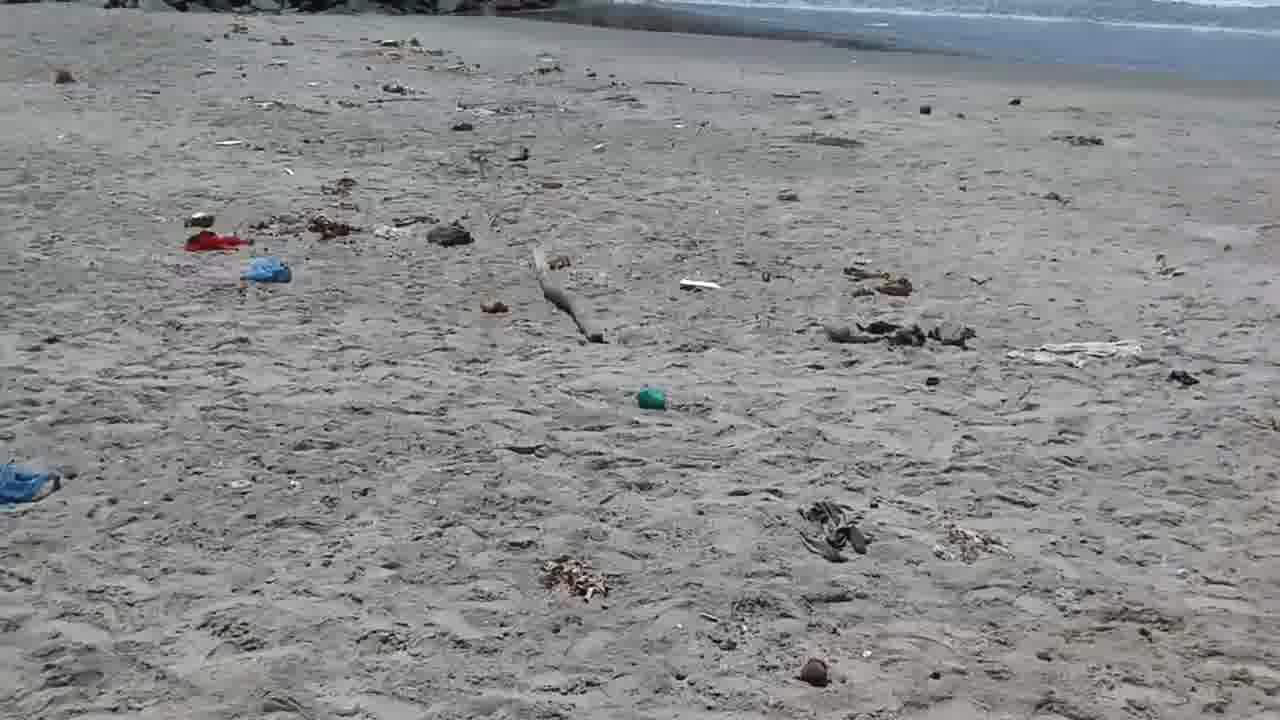obj: (532, 243, 612, 342), (824, 316, 980, 352), (806, 493, 872, 564), (1008, 339, 1146, 372), (536, 551, 612, 610), (928, 522, 1018, 566), (1, 463, 75, 508), (168, 232, 247, 256), (304, 212, 366, 241), (423, 218, 476, 248), (787, 657, 830, 687), (242, 259, 288, 283), (638, 385, 668, 412), (678, 278, 722, 290)
sand/background: (64, 0, 1279, 102)
